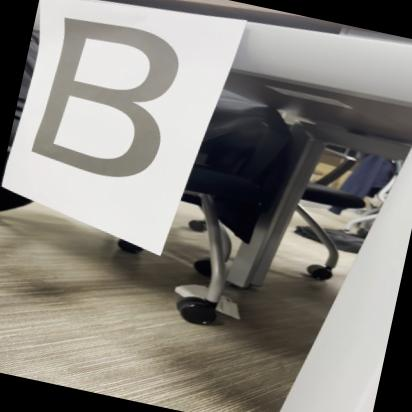seat: (25, 5, 197, 192)
